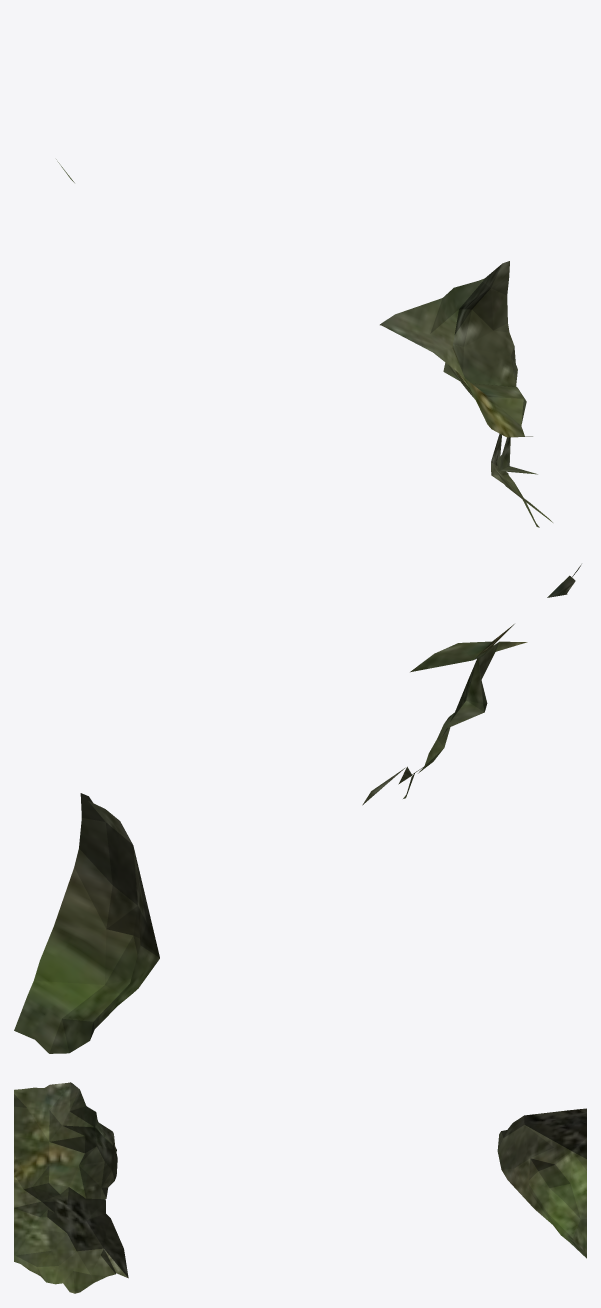
The picture shows the model from 3 angles, top to bottom: view 1: azimuth 30°, elevation 25°; view 2: azimuth 150°, elevation 25°; view 3: azimuth 270°, elevation 25°; orthographic projection. The views are drawn at different scales.
Size of the model in its own units: 1.27 by 1.81 by 5.9.
1 material, 1 textured.
